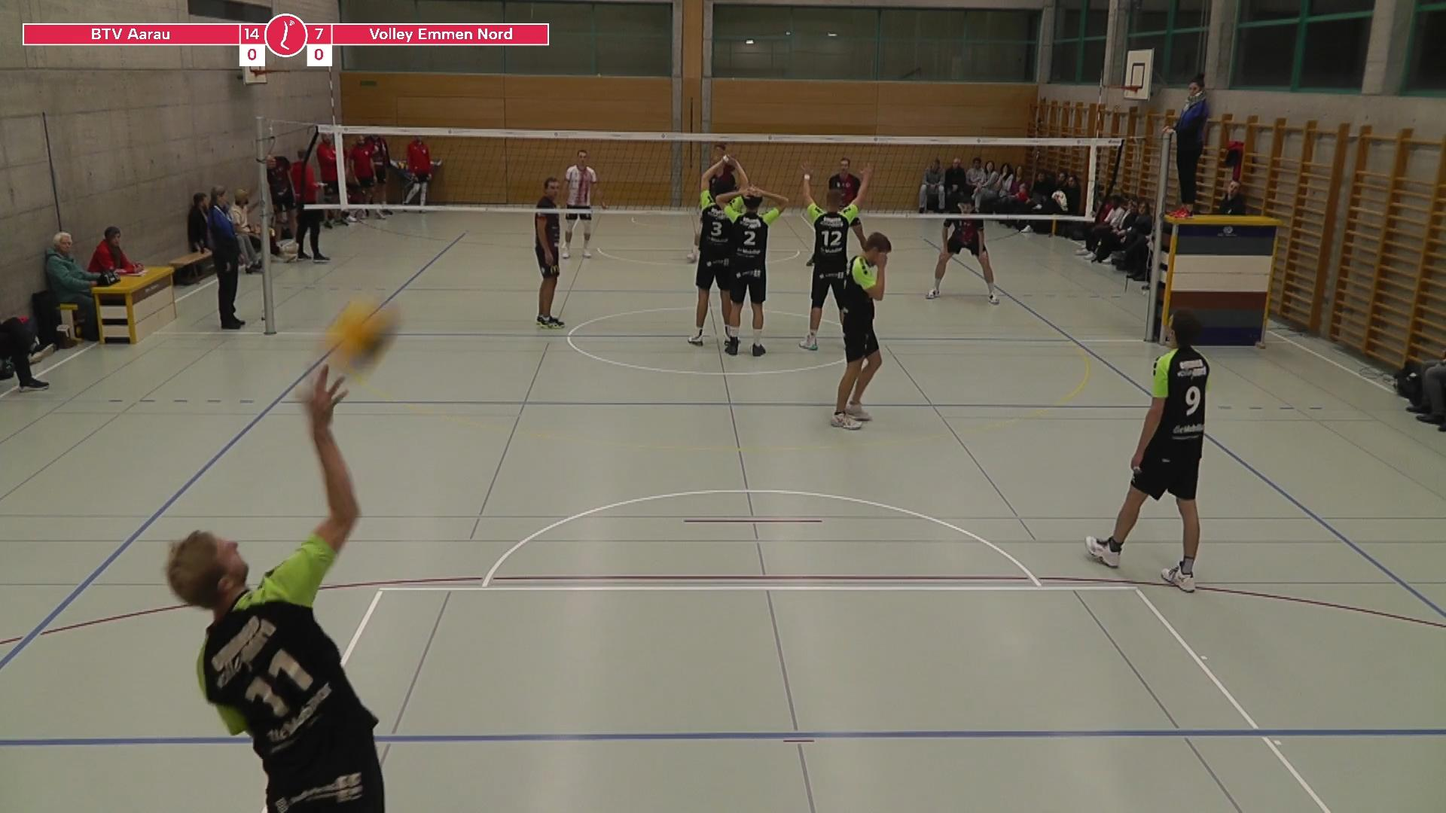Player: (1086, 311, 1209, 591), (799, 165, 871, 350), (718, 187, 788, 356), (831, 233, 891, 429), (688, 157, 747, 345), (926, 196, 999, 304), (561, 150, 606, 259), (534, 177, 564, 328), (707, 143, 746, 197), (828, 157, 862, 206)
Serve: (138, 355, 398, 813)
ball: (314, 292, 406, 372)
